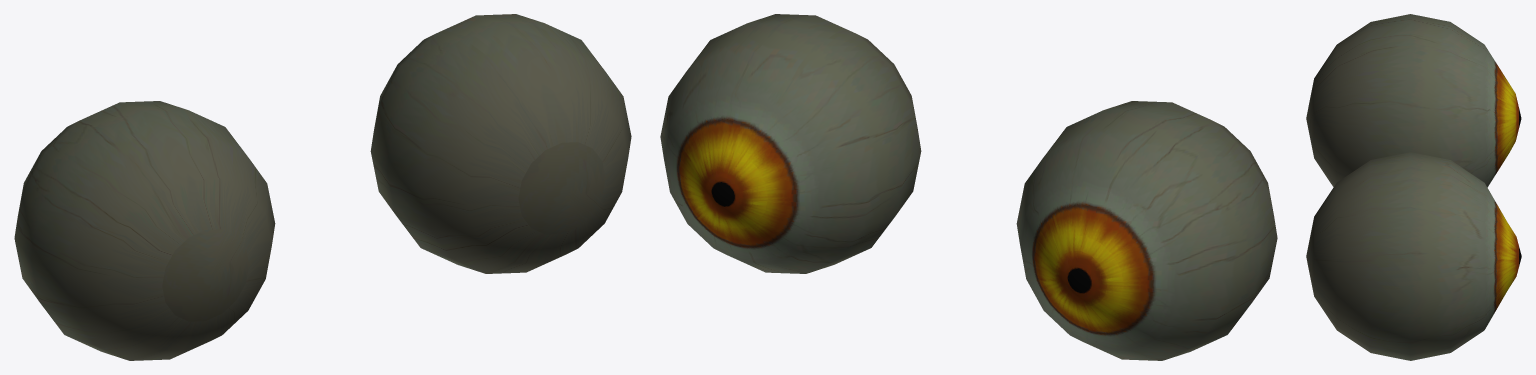
Rendered from eyes.obj.
3 renders of one model, left to right at view 1: azimuth 30°, elevation 25°; view 2: azimuth 150°, elevation 25°; view 3: azimuth 270°, elevation 25°, orthographic. The views are drawn at different scales.
Parts seen in each view (by area): view 1: Eyes; view 2: Eyes; view 3: Eyes.
Boxes of the visible parts, x1,y1,x2,y2 form: Eyes: (14, 14, 631, 360); Eyes: (660, 14, 1277, 360); Eyes: (1306, 14, 1521, 360).
Bounding box in the file's own units: 0.3937 × 0.1536 × 0.1584.
